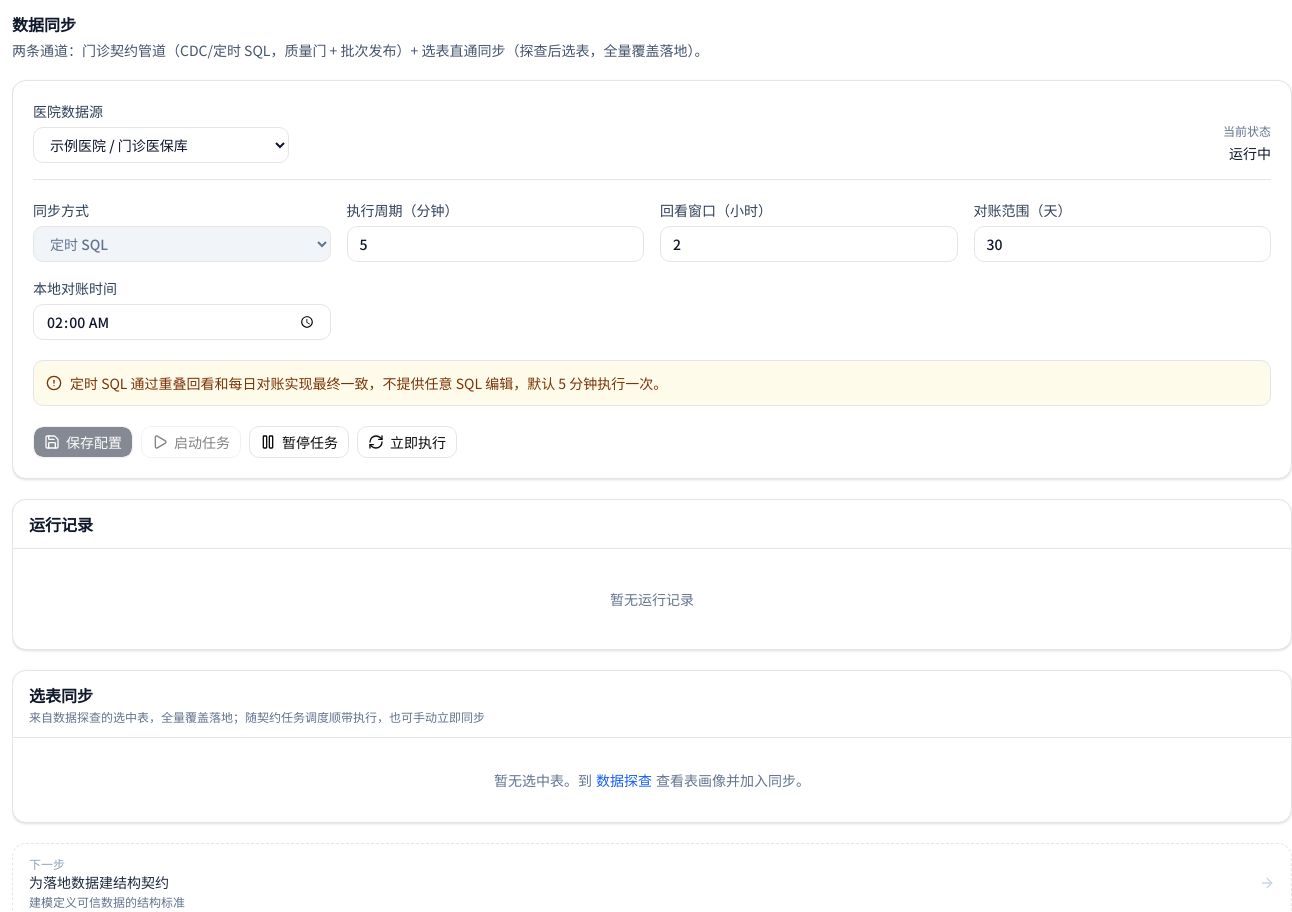
it: 同步任务配置 › 立即执行进入队列，不伪造同步成功
What coordinates should you click on to do the following:
click the button "立即执行"
I would click on:
 (407, 442)
Its box is [357,426,457,458].
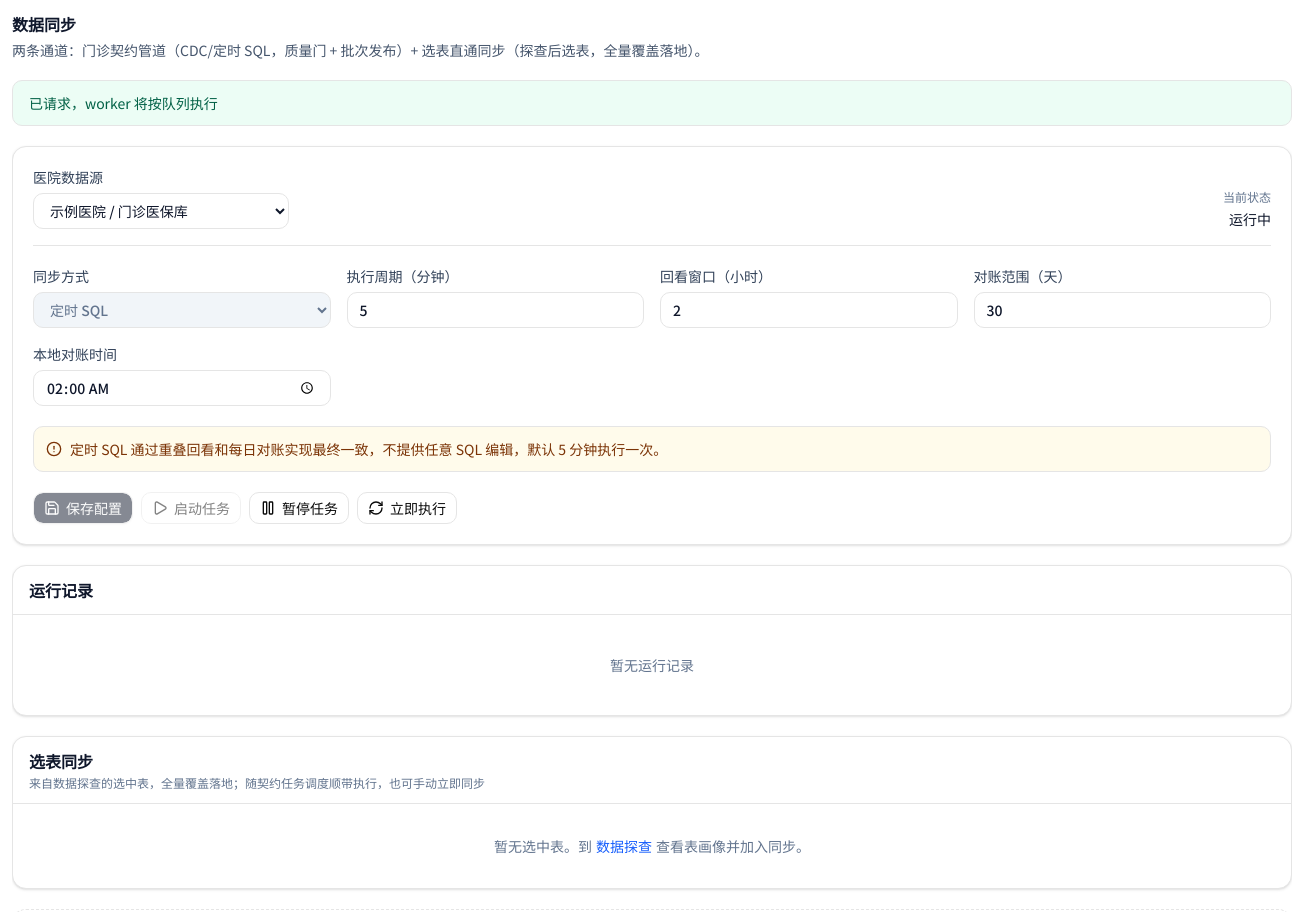
Check: the text "已请求，worker 将按队列执行" is shown, box [12,80,1291,126]
